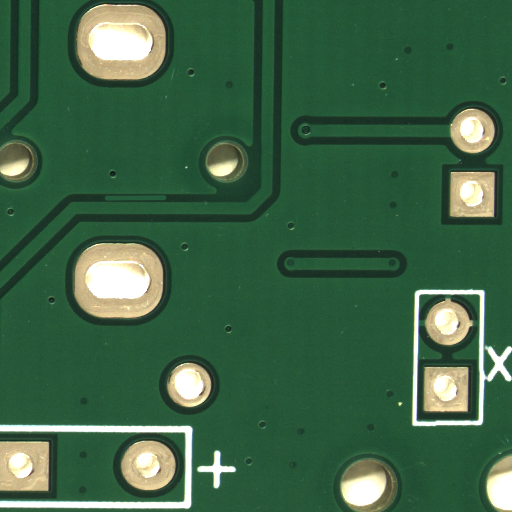Spurious_copper: (136, 198, 201, 205)
